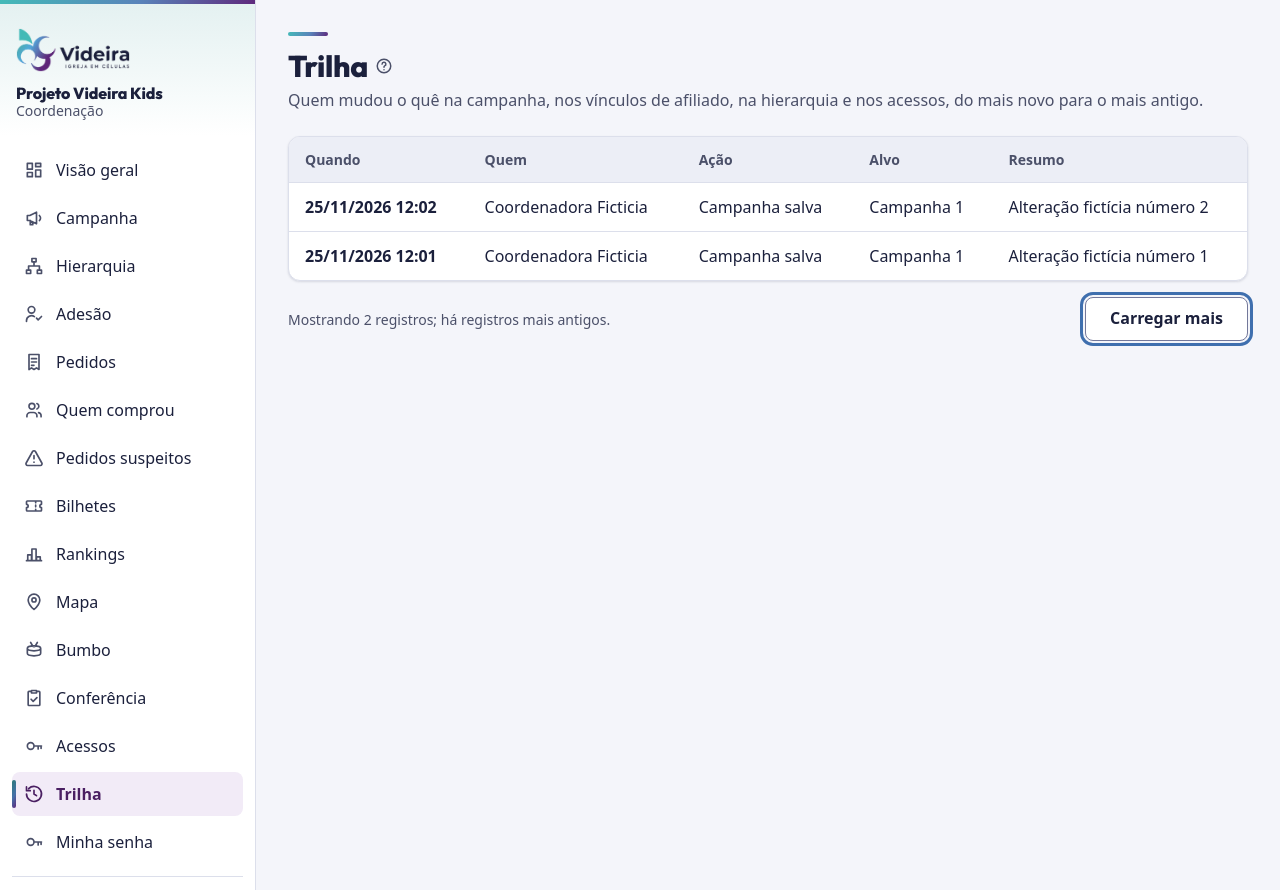
Test: RIFA-024: Carregar mais (cursor) e o foco › a última página vem vazia: o botão some e o foco vai para a linha do fim
Click the button "Carregar mais".
click(1166, 319)  # box [1085,297,1248,341]
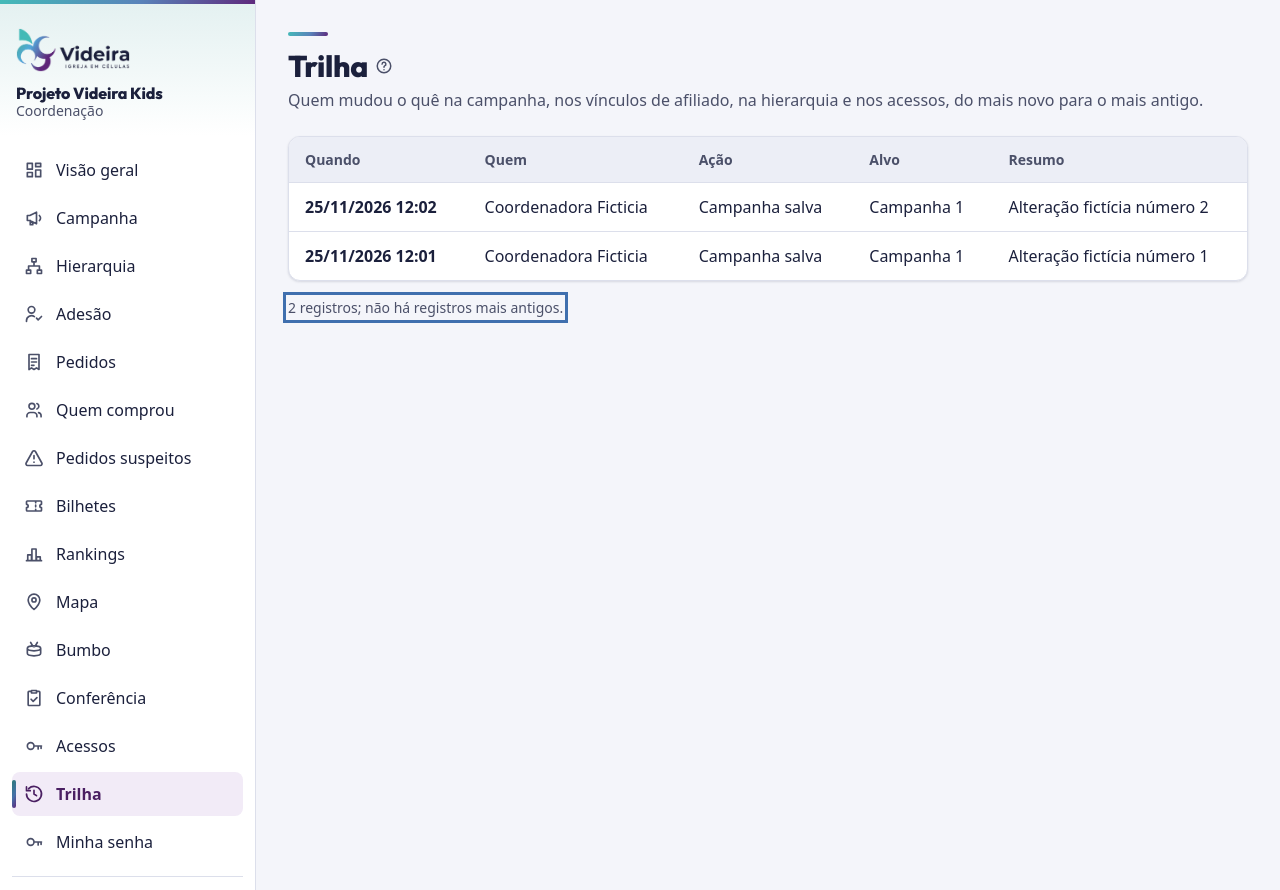
Expected: the button "Carregar mais" is gone
